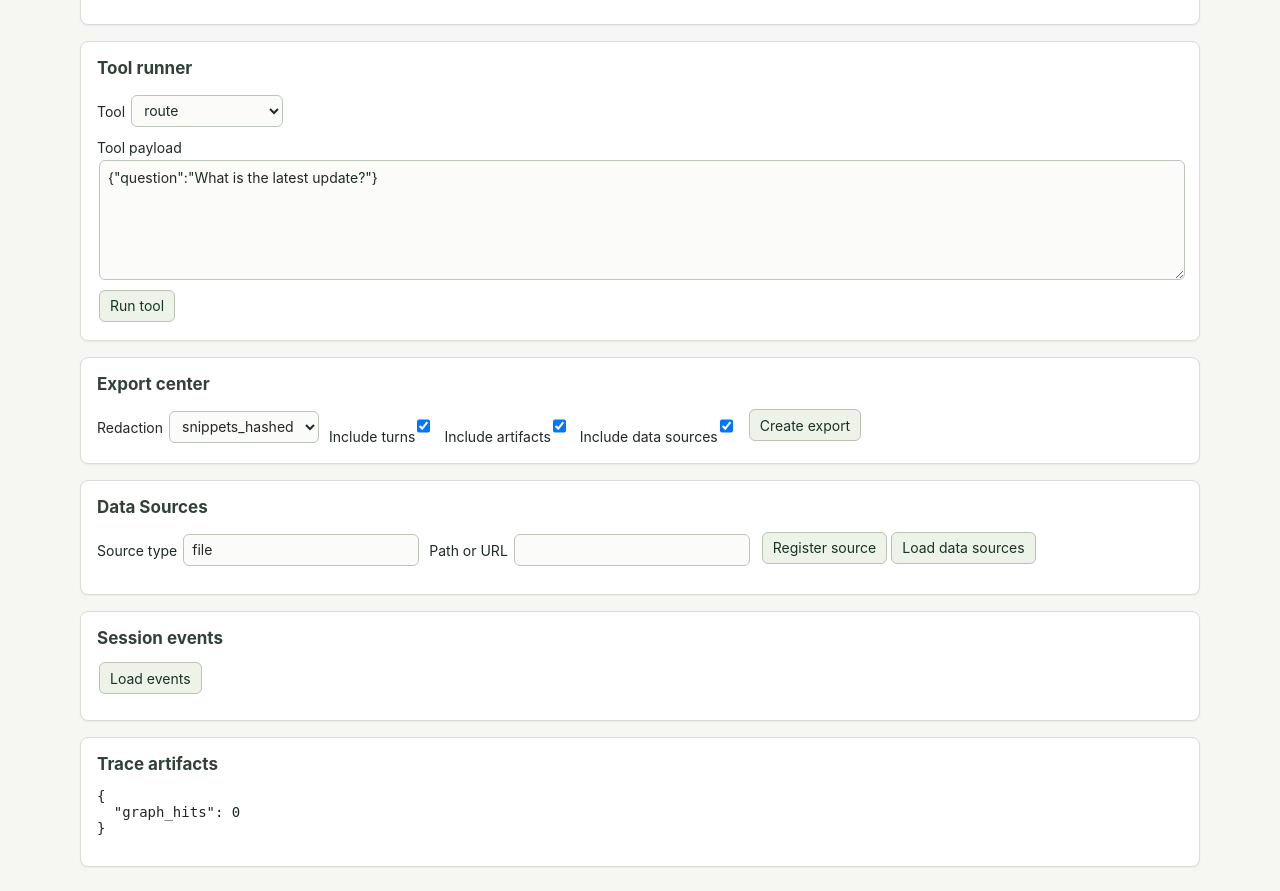
Test case: cockpit app › loads and lists registered data sources
(page scrolled)
What coordinates should you click on to do the following:
click the button with test id "load-sources"
I would click on:
 (963, 548)
Its box is [891, 532, 1036, 564].
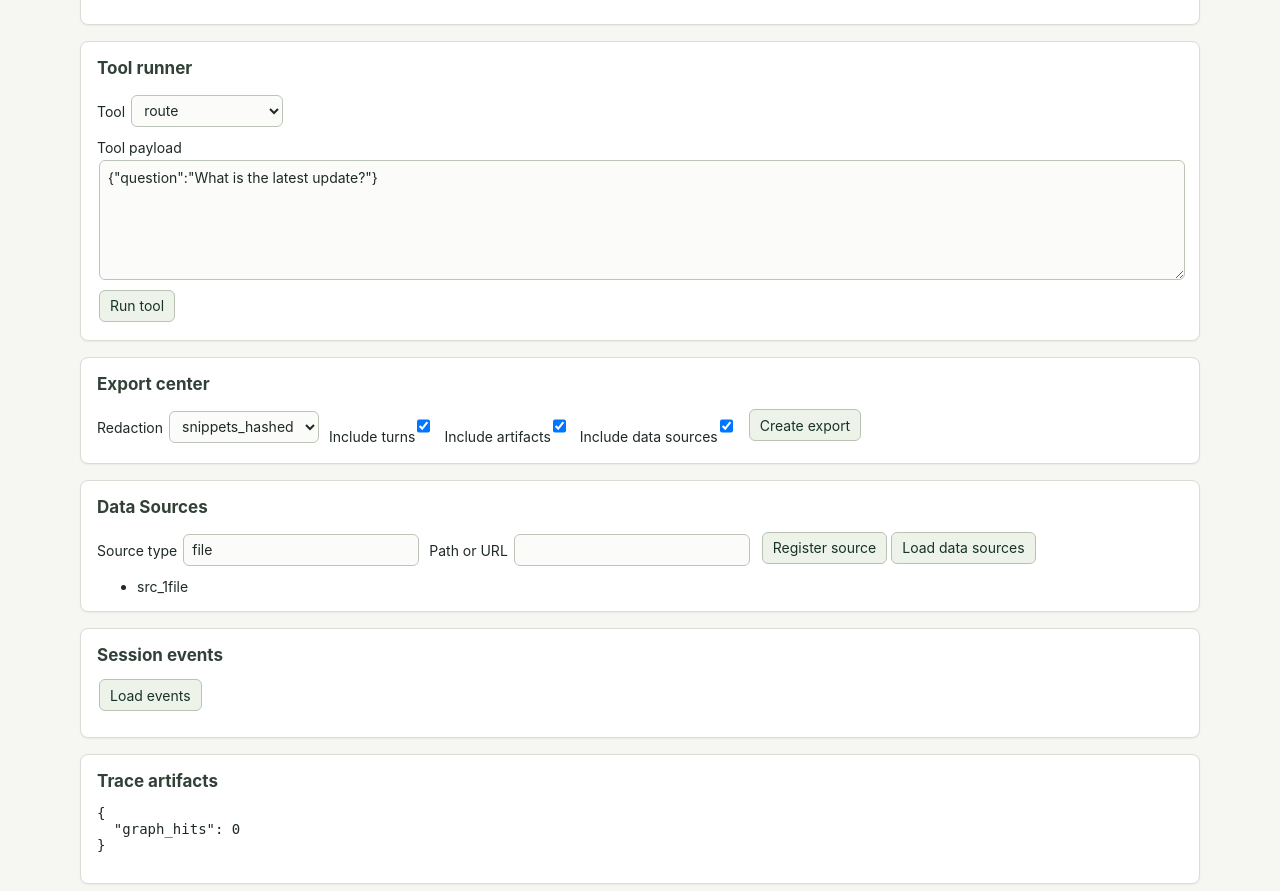
Expected: the text "src_1" is shown, [137, 578, 168, 595]
Expected: the text with test id "data-source-type-src_1" reads "file", [168, 578, 188, 595]
